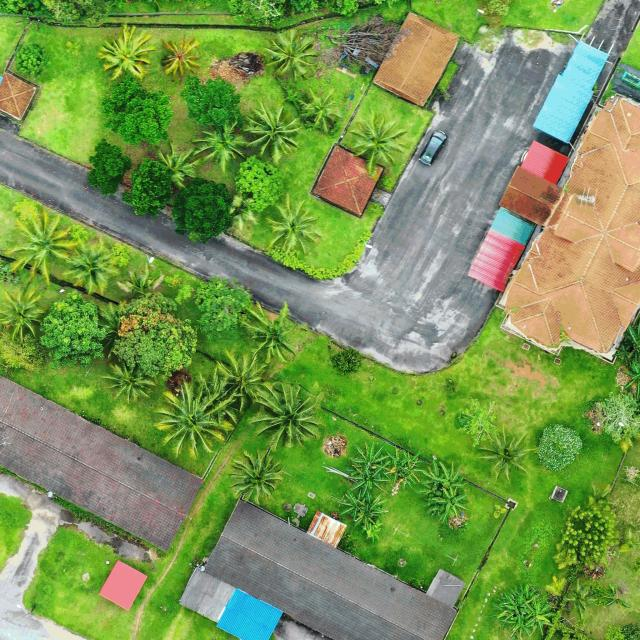0: (154, 376, 236, 462), (3, 209, 78, 288), (552, 494, 622, 576), (250, 381, 322, 449), (238, 301, 312, 365), (213, 347, 281, 412), (347, 109, 410, 177), (242, 98, 305, 164), (190, 120, 250, 183), (61, 239, 123, 295), (97, 24, 156, 82), (478, 424, 536, 482), (264, 196, 322, 252), (228, 449, 288, 503), (261, 29, 320, 80), (150, 139, 202, 191), (0, 286, 48, 340), (103, 358, 157, 404), (297, 88, 343, 132), (116, 264, 159, 302), (164, 38, 202, 78)
banana_tree2: (414, 459, 470, 496), (427, 488, 471, 524), (344, 460, 392, 490), (354, 492, 389, 531), (387, 448, 422, 486), (524, 597, 556, 636), (350, 442, 390, 472), (504, 606, 534, 639), (337, 490, 367, 520), (498, 590, 531, 616), (518, 585, 548, 609), (622, 362, 640, 401), (612, 344, 632, 364)
tree: (111, 291, 199, 378), (38, 289, 111, 371), (100, 74, 171, 145), (171, 177, 231, 244), (179, 75, 244, 130), (193, 274, 253, 332), (122, 158, 172, 218), (234, 154, 284, 213), (86, 138, 132, 197), (594, 392, 640, 450), (536, 421, 584, 471), (14, 41, 46, 78), (331, 345, 362, 375)
